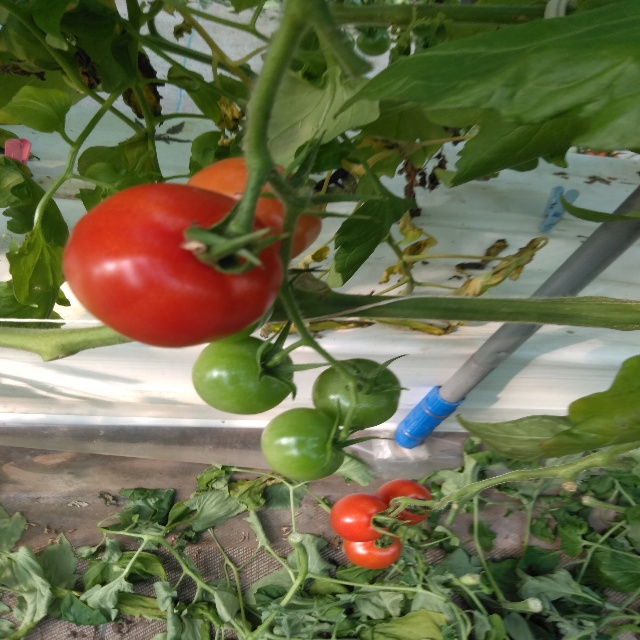l_fully_ripened: (63, 183, 286, 347), (330, 493, 395, 542), (375, 478, 432, 525), (342, 530, 400, 569)
l_green: (191, 336, 294, 415), (312, 358, 401, 430), (261, 407, 345, 481), (208, 303, 274, 344)
l_half_ripened: (185, 157, 322, 262)
